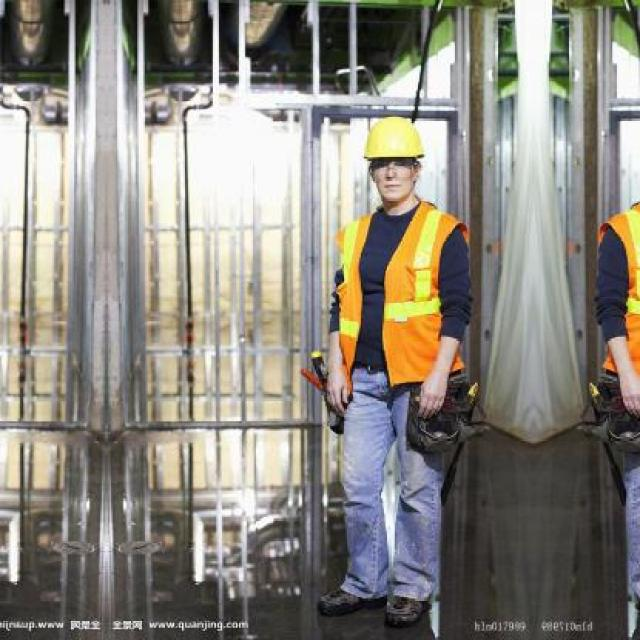helmet: (353, 118, 435, 208)
